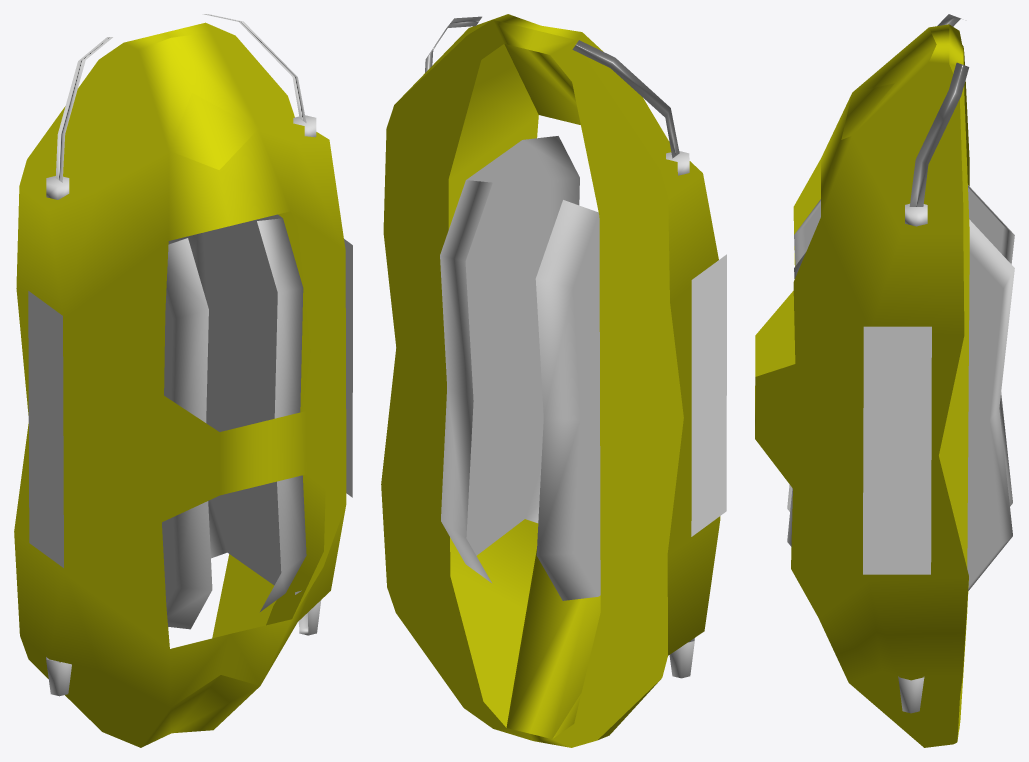
Rendered from Shared_Caliper_Wilwood_Caliper03_L_FL.fbx.
3 renders of one model, left to right at view 1: azimuth 30°, elevation 25°; view 2: azimuth 150°, elevation 25°; view 3: azimuth 270°, elevation 25°, orthographic. The views are drawn at different scales.
Visible parts, largest first — view 1: Wilwood_Caliper03_L_FL 1; view 2: Wilwood_Caliper03_L_FL 1; view 3: Wilwood_Caliper03_L_FL 1.
Boxes of the visible parts, box(x1,y1,x2,y2) form: Wilwood_Caliper03_L_FL 1: box(14, 14, 352, 747); Wilwood_Caliper03_L_FL 1: box(381, 14, 726, 747); Wilwood_Caliper03_L_FL 1: box(755, 14, 1014, 747).
Bounding box in the file's own units: 0.143 × 0.3305 × 0.1127.
